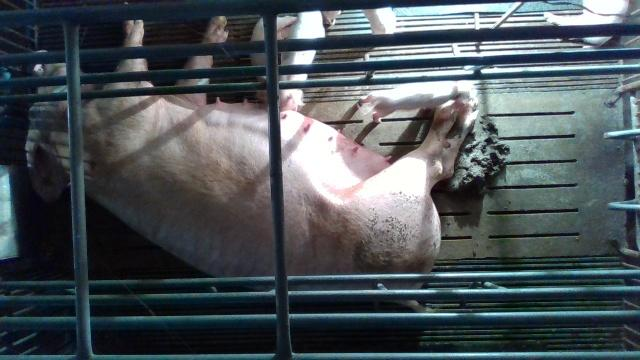piglet: (279, 11, 325, 113), (358, 82, 464, 124), (250, 15, 298, 103), (543, 0, 628, 49), (364, 7, 398, 35)
sow-sleep-lactate: (24, 16, 479, 316)
